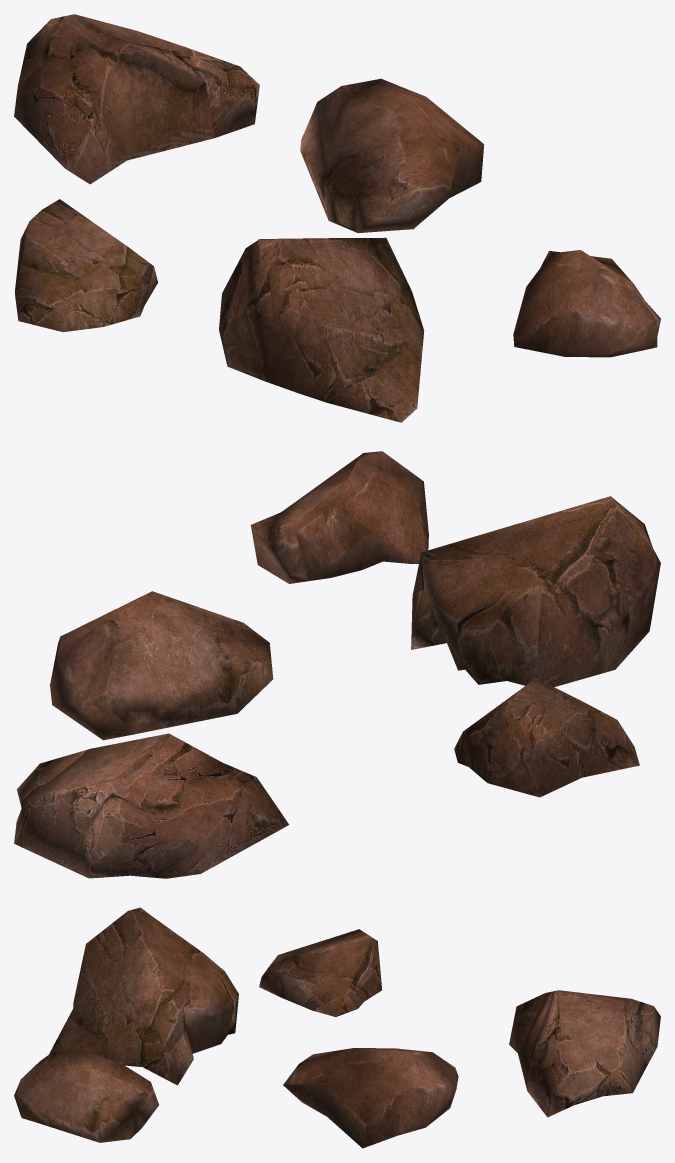
The model's file is Rock_Stone5_lod2.glb.
The picture shows the model from 3 angles, top to bottom: view 1: azimuth 30°, elevation 25°; view 2: azimuth 150°, elevation 25°; view 3: azimuth 270°, elevation 25°; orthographic projection. The views are drawn at different scales.
Parts seen in each view (by area): view 1: xiutz_stone5_lod2; view 2: xiutz_stone5_lod2; view 3: xiutz_stone5_lod2.
Part boxes in pixels (box(x1,y1,x2,y2)): xiutz_stone5_lod2: box(14, 14, 660, 422); xiutz_stone5_lod2: box(14, 451, 660, 878); xiutz_stone5_lod2: box(14, 907, 660, 1148).
Bounding box in the file's own units: 6.82 × 2.06 × 10.1.
Materials: 1 (1 with a texture image).
